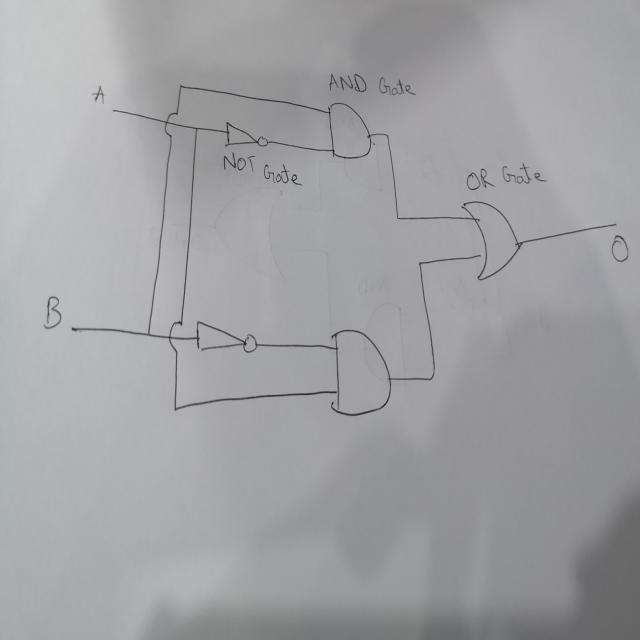crossover: (168, 316, 184, 356), (163, 108, 180, 139)
junction: (426, 364, 439, 385), (415, 255, 425, 273), (144, 326, 152, 341), (393, 210, 401, 224), (177, 79, 184, 94), (383, 128, 391, 140), (172, 401, 178, 414), (193, 123, 199, 134)
terminal: (69, 322, 77, 336), (110, 104, 119, 116), (610, 217, 618, 230)
text: (221, 149, 303, 188), (464, 158, 550, 192), (323, 71, 418, 97), (44, 291, 63, 330), (610, 232, 630, 265), (91, 82, 105, 106)
